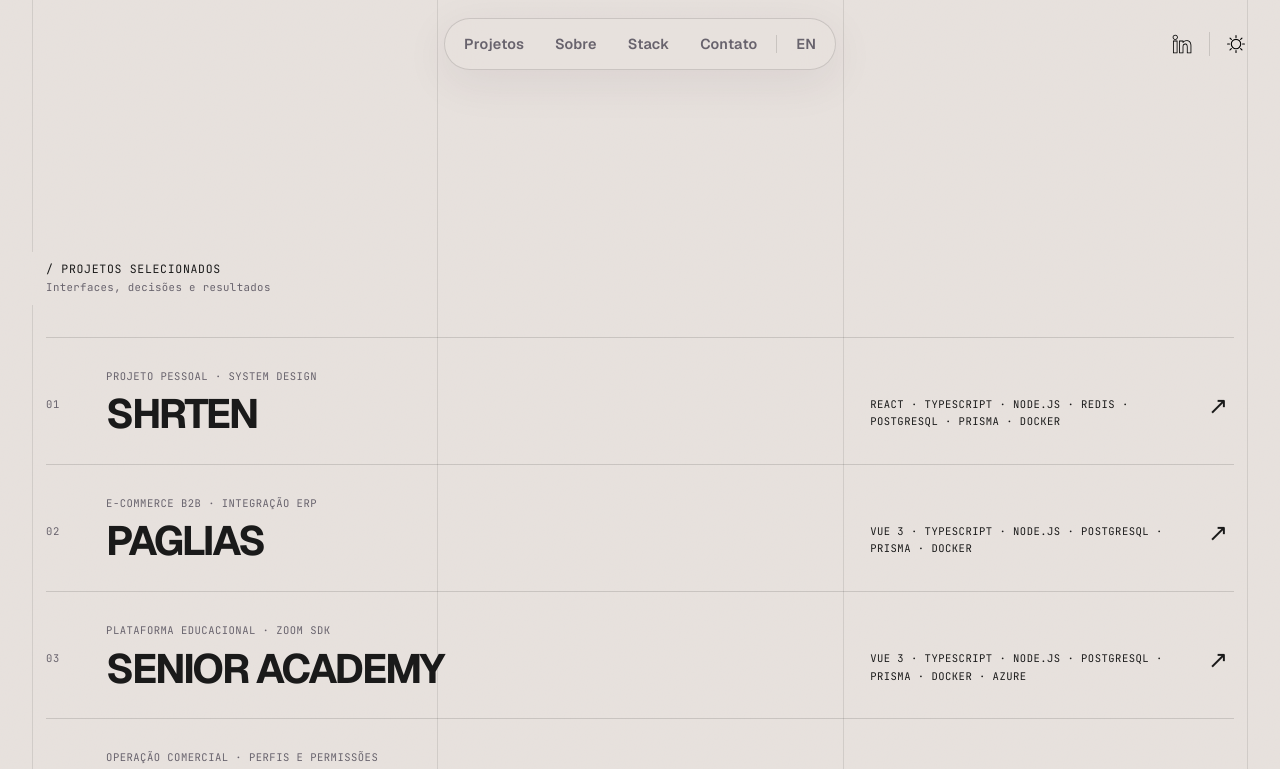
Test: projects editorial index › reveals the active project description when a project row receives attention
(page scrolled)
Hover over the link with aria-label "ver case shrten".
mouse_move(212, 376)  # box [46,369,1228,440]
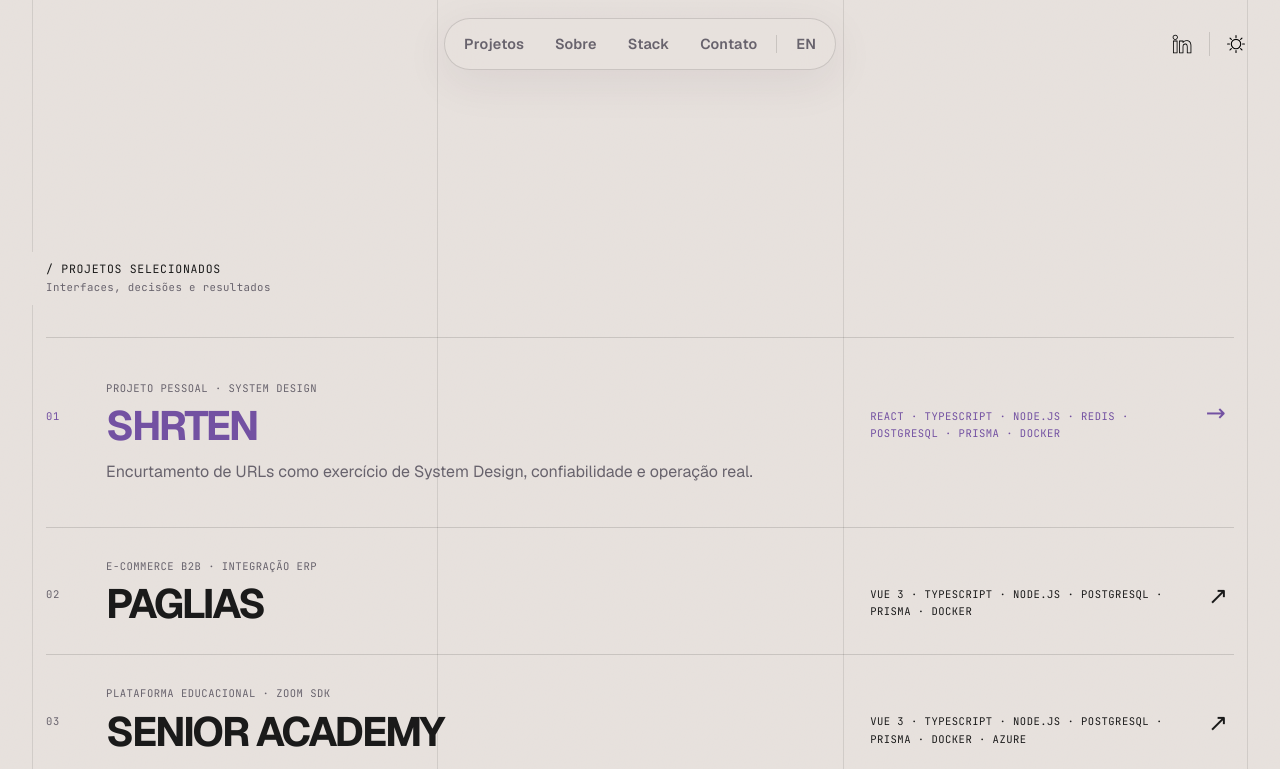
Check: the text "Encurtamento de URLs como exercício de System Design" is shown, box [106,461,753,482]
